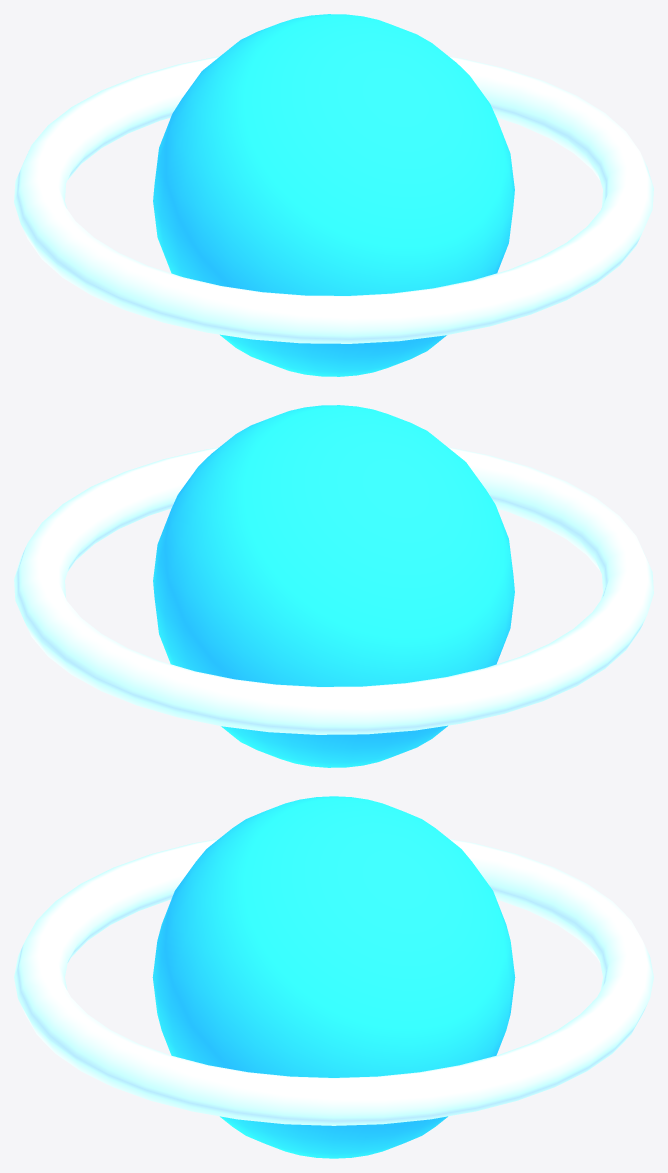
Rendered from kb_marker_blue.glb.
The picture shows the model from 3 angles, top to bottom: view 1: azimuth 30°, elevation 25°; view 2: azimuth 150°, elevation 25°; view 3: azimuth 270°, elevation 25°; orthographic projection.
Visible parts, largest first — view 1: skin; view 2: skin; view 3: skin.
Boxes of the visible parts, x1,y1,x2,y2 form: skin: [14, 14, 653, 376]; skin: [14, 405, 653, 767]; skin: [14, 796, 653, 1158].
Bounding box in the file's own units: 1.13 × 0.64 × 1.13.
